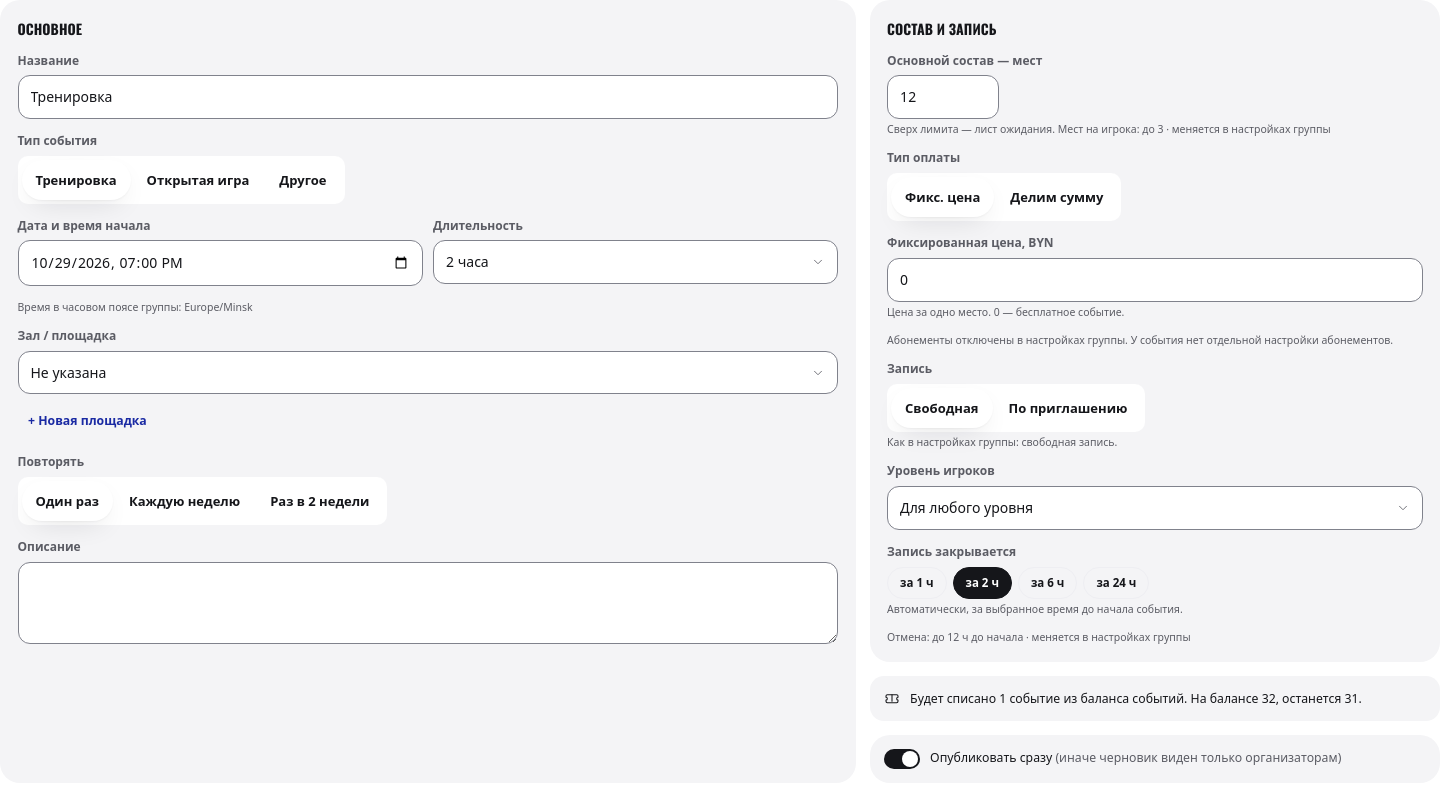
Scenario: failures and in-flight requests › shows the repeat count error without pressing submit and a precise empty-preview hint
Replace the text in the field with id "ev-start" with "2030-06-08T19:00" at (220, 263), box 18,240 -> 422,286
Wait 400 ms
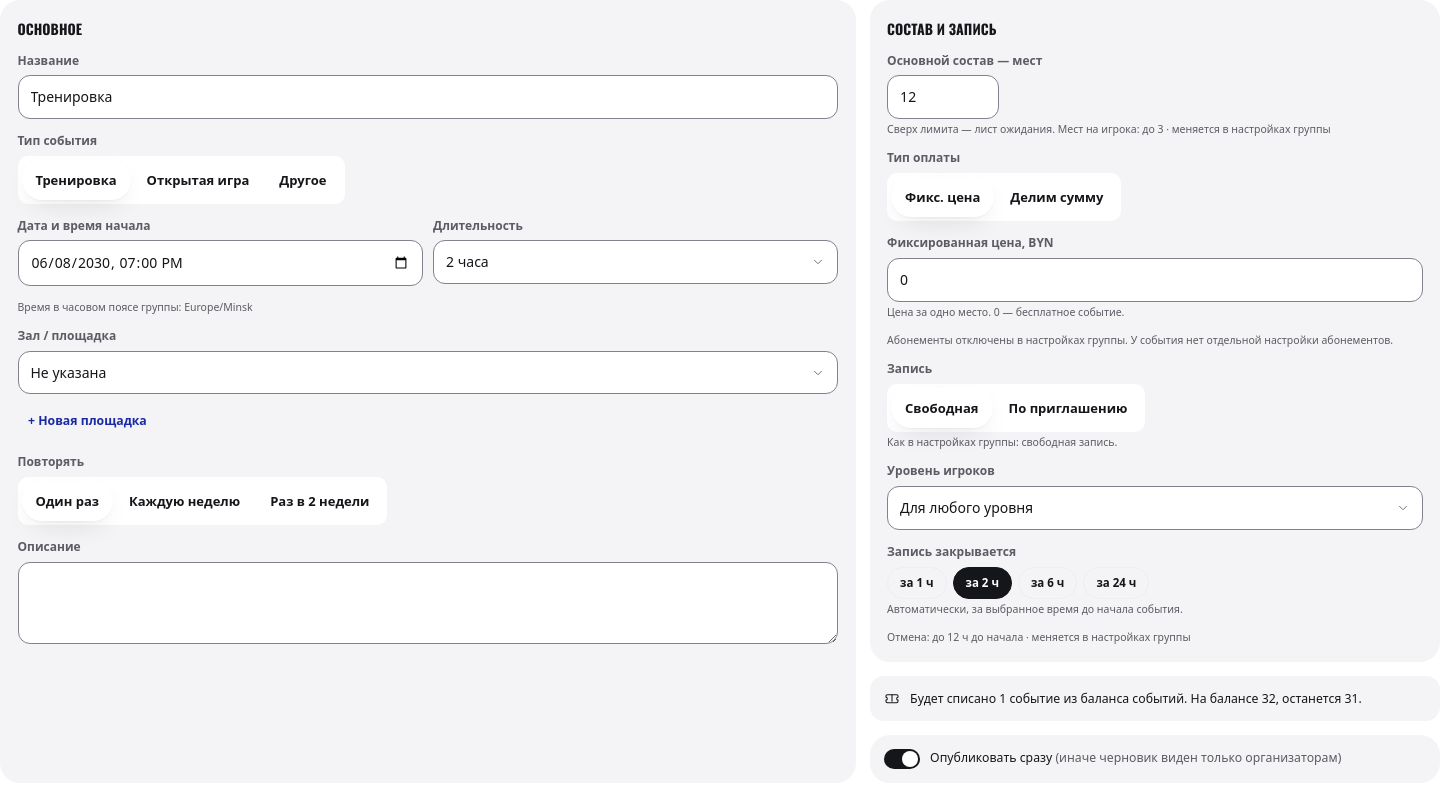
Click the radio button labelled "Каждую неделю".
click(185, 501)  # box 115,481 -> 254,521
Wait 400 ms
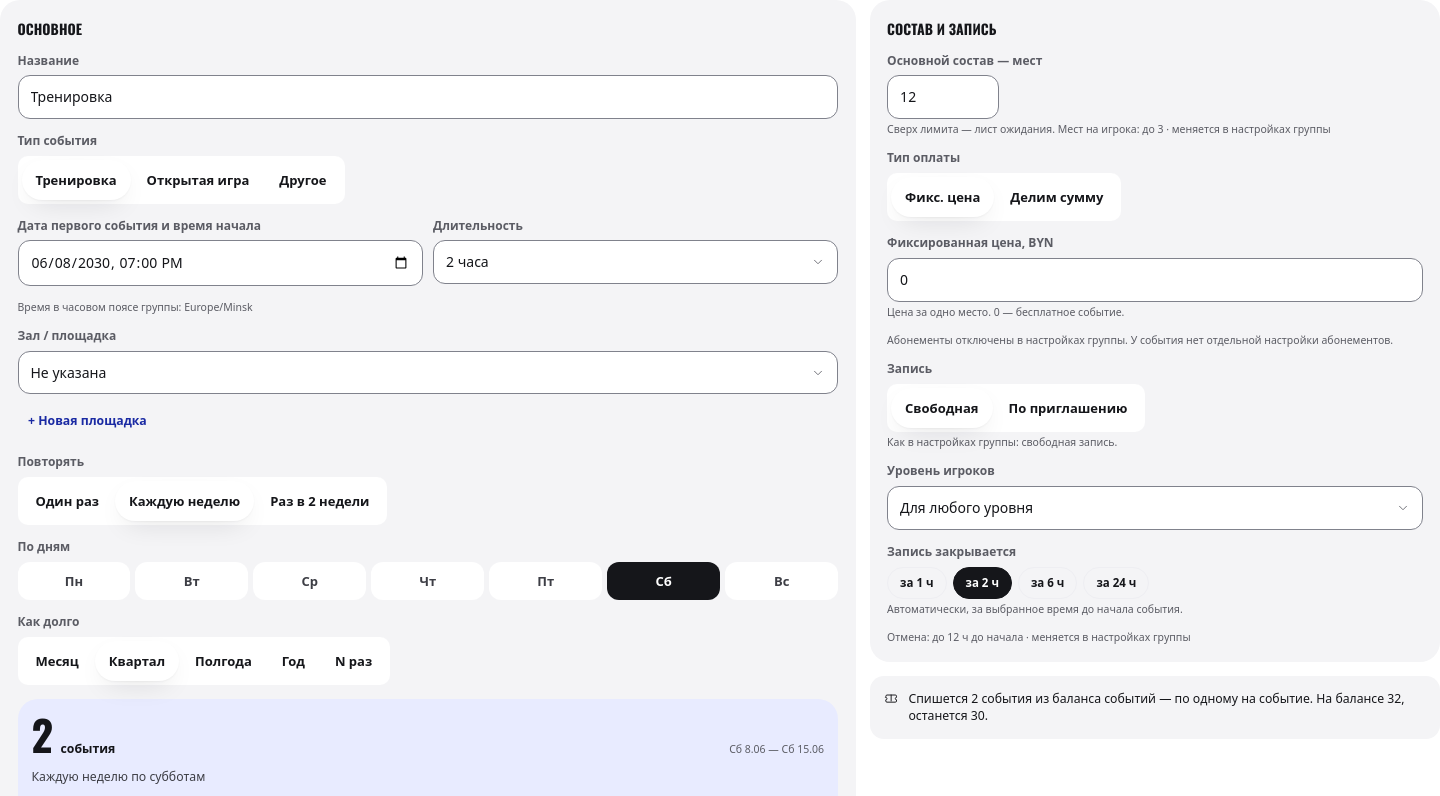
Click the radio button labelled "N раз".
click(354, 661)  # box 321,641 -> 386,681
Wait 400 ms
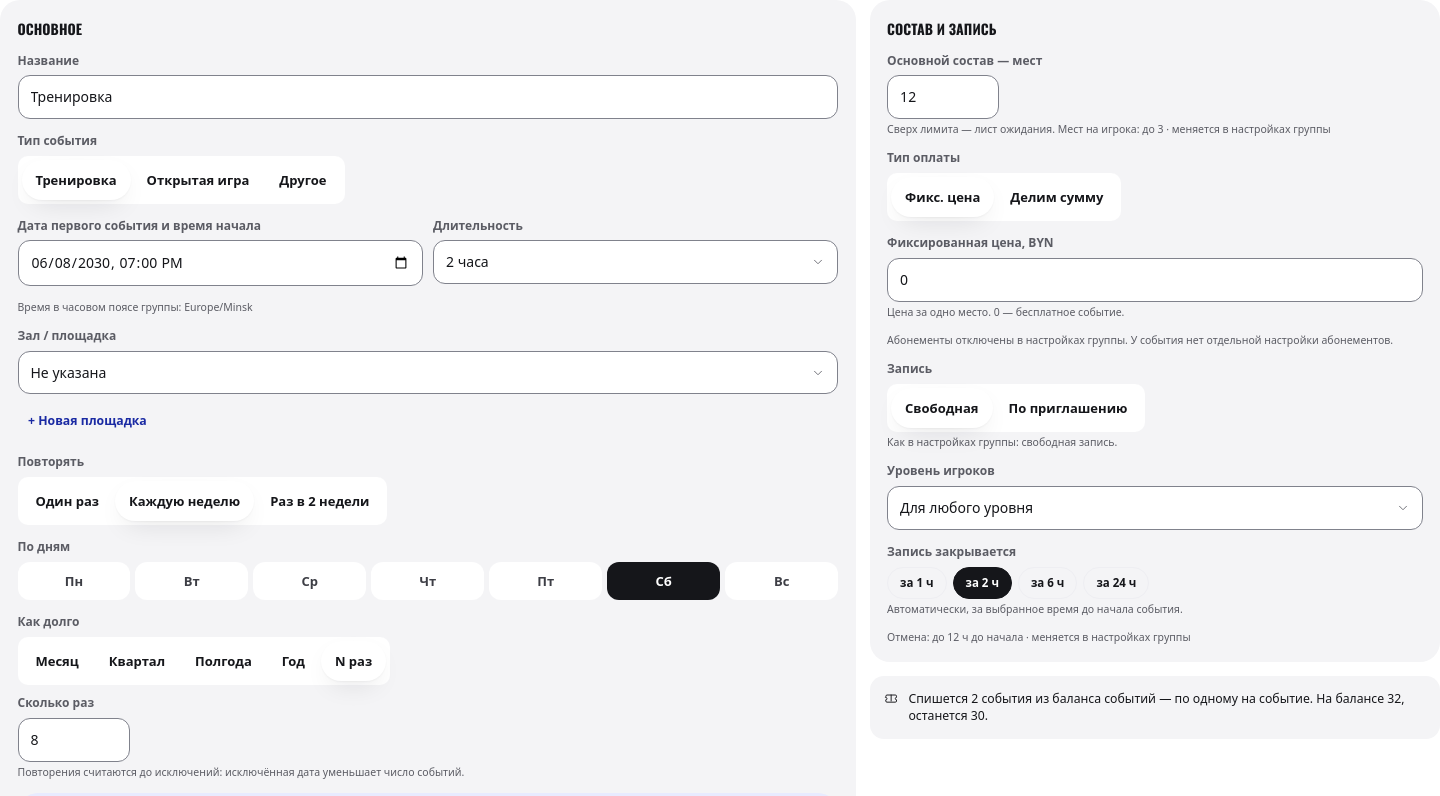
Replace the text in the field with id "ev-series-count" with "abc" at (74, 740), box 18,718 -> 130,762
Wait 400 ms
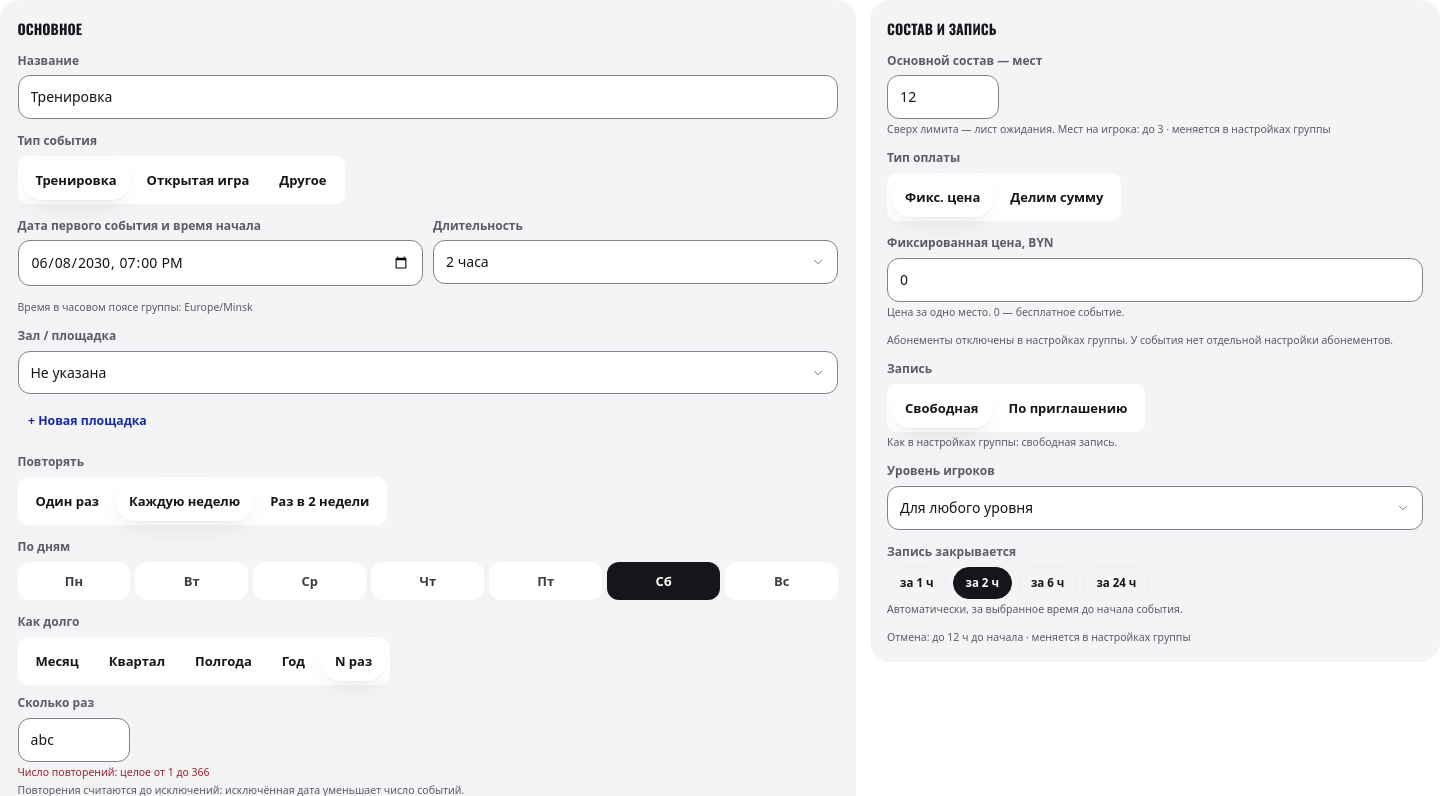
Now the message with id "ev-series-count-error" shows "от 1 до 366", box 18,765 -> 210,779
